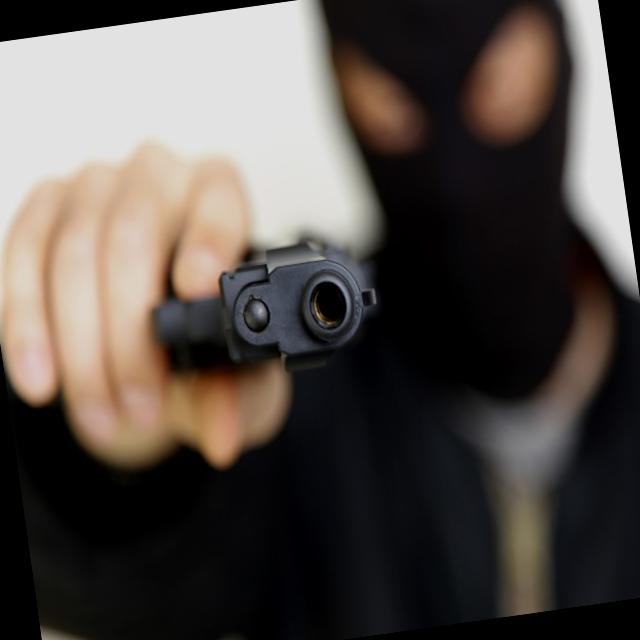handgun: (136, 214, 396, 404)
